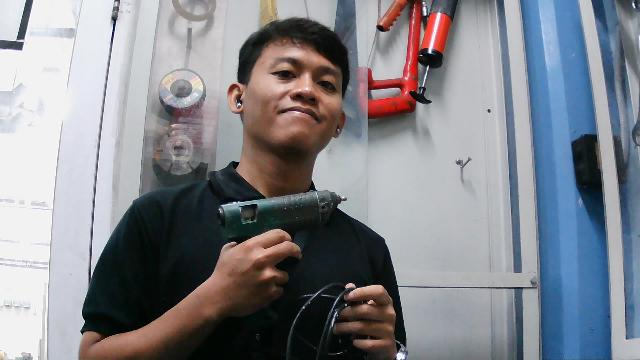gun_lem: (211, 187, 351, 274)
